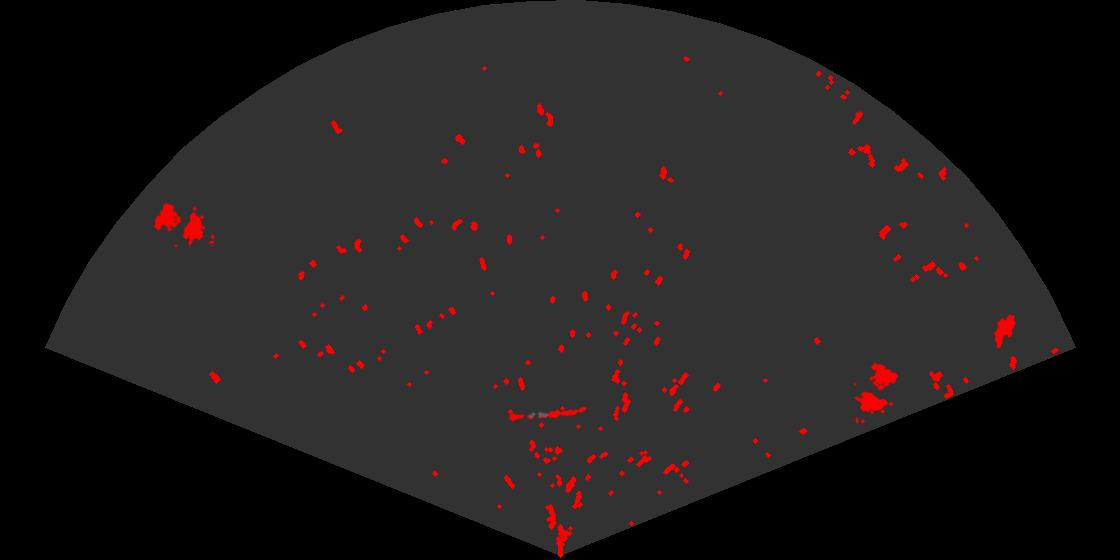AUV: (992, 312, 1017, 351)
cage: (854, 361, 900, 423), (152, 201, 214, 247)
chain: (507, 405, 588, 423)
